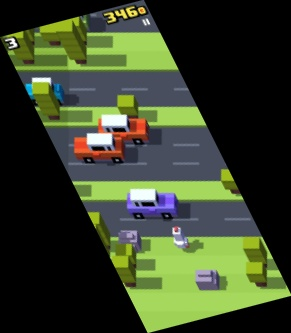car: (126, 188, 179, 221), (98, 114, 150, 147), (73, 132, 126, 164), (21, 77, 63, 106)
duck: (172, 226, 190, 251)
rock: (117, 230, 144, 252), (195, 270, 219, 291)
tree: (57, 20, 86, 64), (6, 27, 36, 64), (30, 83, 60, 120), (84, 212, 110, 251), (242, 237, 269, 268), (218, 169, 244, 195), (244, 260, 268, 288), (114, 257, 136, 286), (63, 17, 87, 43), (38, 21, 62, 46), (114, 243, 137, 269), (15, 19, 36, 46), (115, 95, 138, 118)
